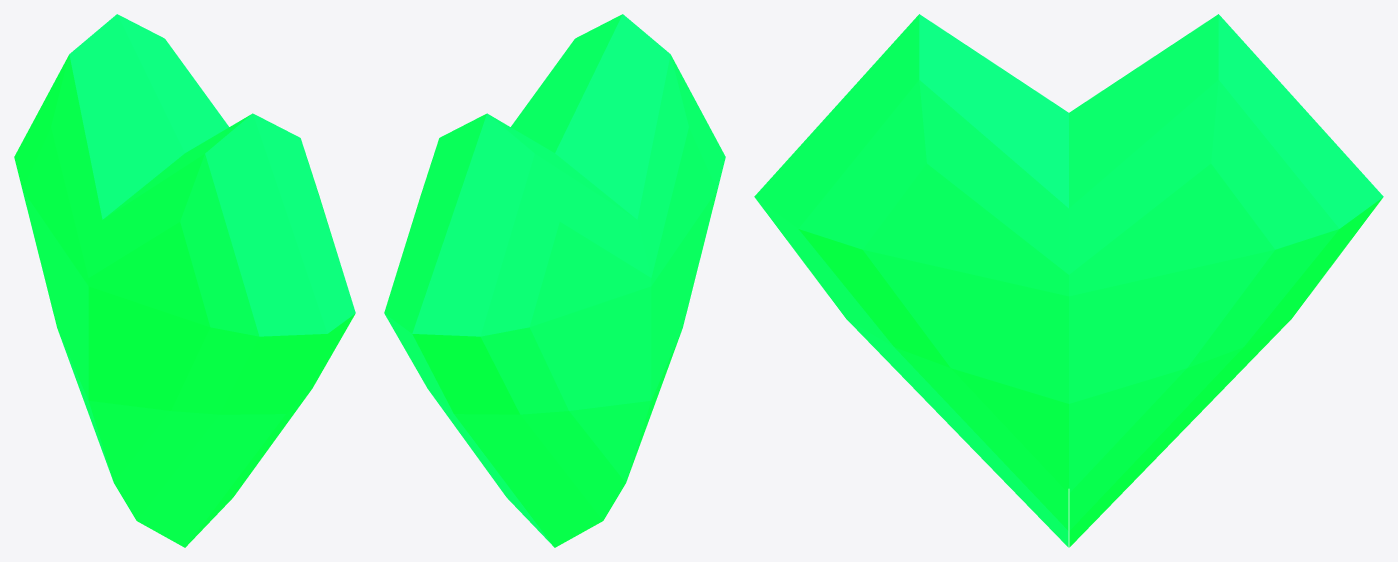
Rendered from Heart.fbx.
3 renders of one model, left to right at view 1: azimuth 30°, elevation 25°; view 2: azimuth 150°, elevation 25°; view 3: azimuth 270°, elevation 25°, orthographic. The views are drawn at different scales.
Parts seen in each view (by area): view 1: Cube; view 2: Cube; view 3: Cube.
Boxes of the visible parts, box(x1,y1,x2,y2) form: Cube: box(14, 14, 355, 547); Cube: box(384, 14, 725, 547); Cube: box(754, 14, 1383, 547).
Bounding box in the file's own units: 110 × 264 × 282.
